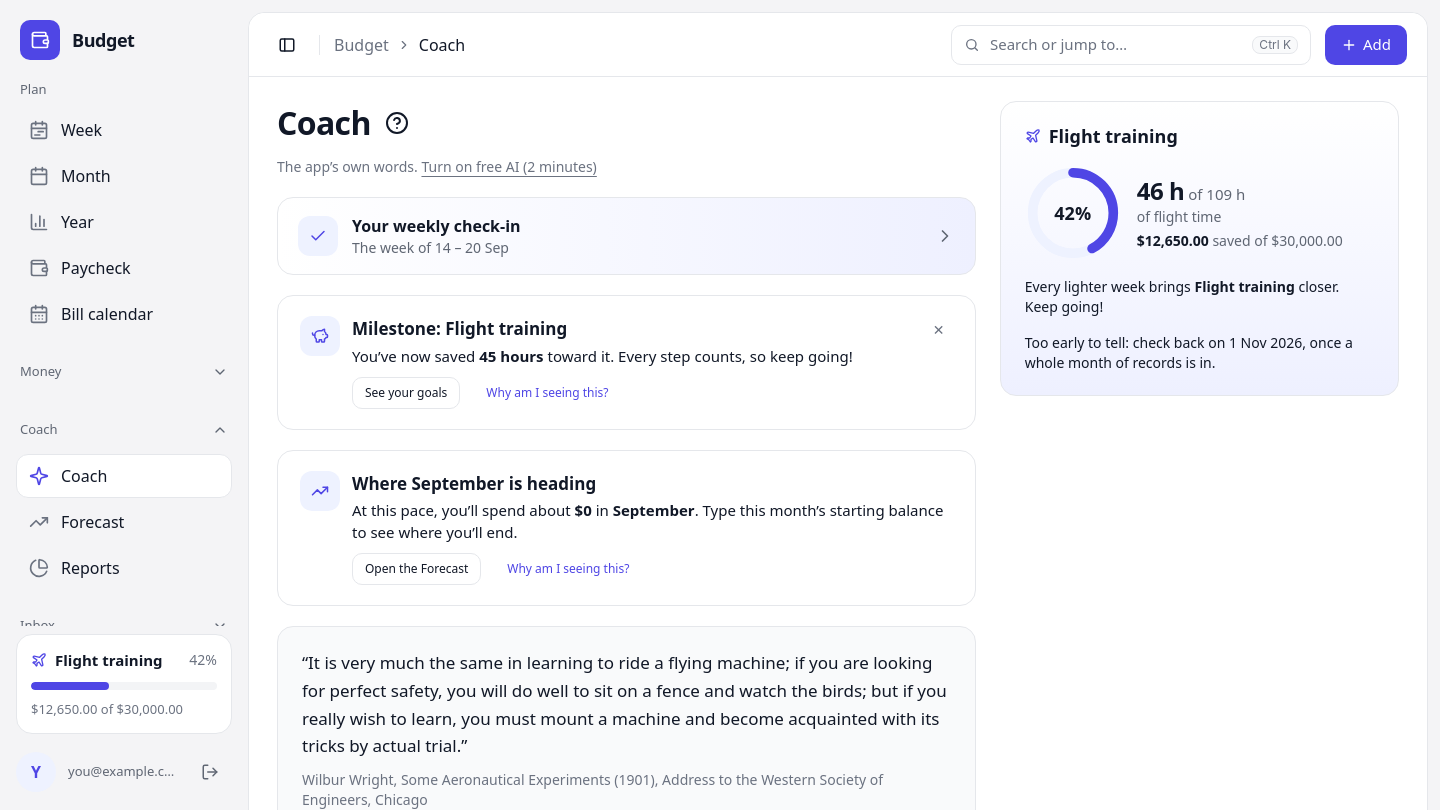
Scenario: the Coach’s wins (A08) › says in “Why am I seeing this?” which milestone was passed, and why that is a card
Click the button "Why am I seeing this?" below "You’ve now saved" at point(547, 393), box [474,377,620,409]
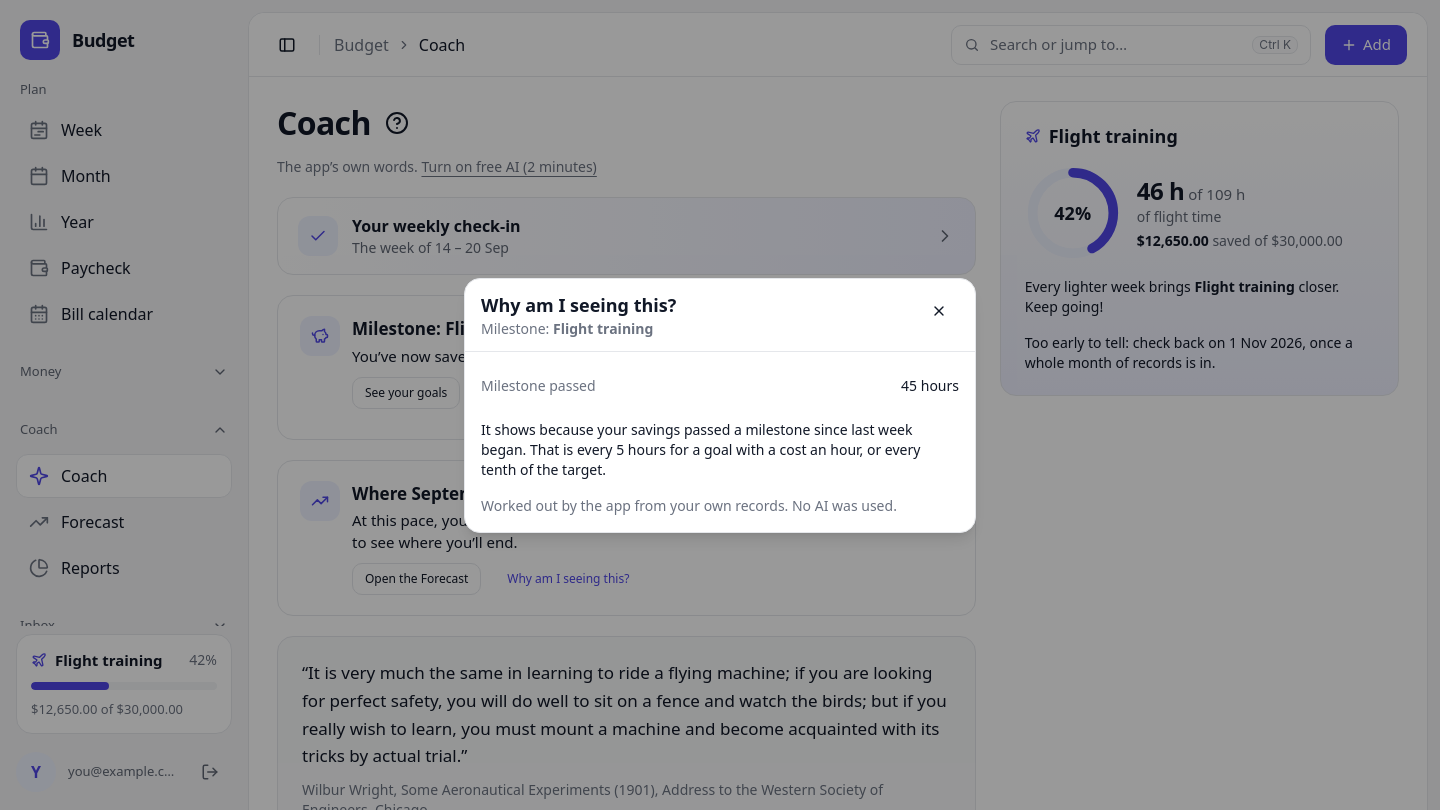
Expected: the text "It shows because your savings passed a milestone since last week began" is shown, [481,420,920,478]
